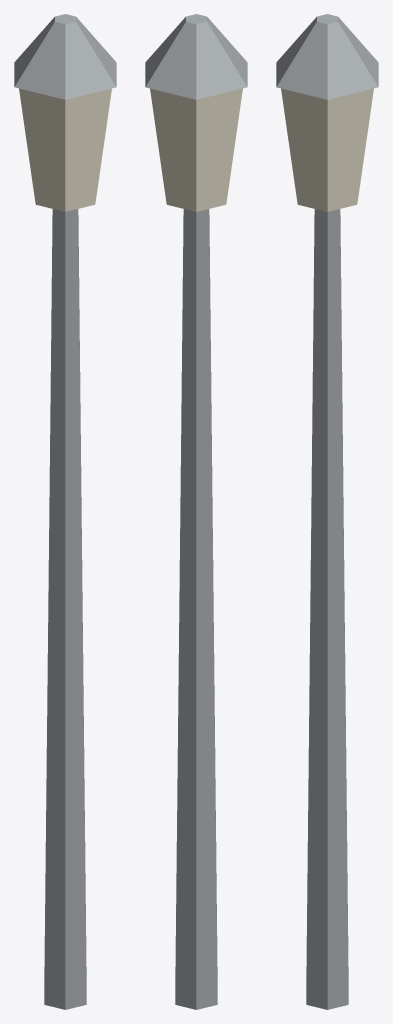
The model's file is lamp-post-far.glb.
The picture shows the model from 3 angles, left to right: view 1: azimuth 90°, elevation 25°; view 2: azimuth 210°, elevation 25°; view 3: azimuth 270°, elevation 25°; orthographic projection.
Visible parts, largest first — view 1: lamp-post-far; view 2: lamp-post-far; view 3: lamp-post-far.
Part boxes in pixels (left/top/right/bottom): lamp-post-far: left=14, top=14, right=116, bottom=1009; lamp-post-far: left=145, top=14, right=247, bottom=1009; lamp-post-far: left=276, top=14, right=378, bottom=1009.
Size of the model in its own units: 0.1091 by 1 by 0.0945.
